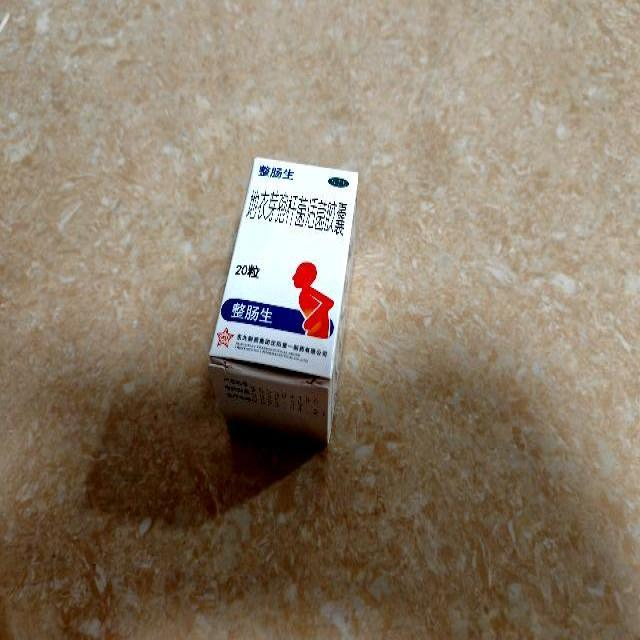box: (208, 156, 359, 448)
